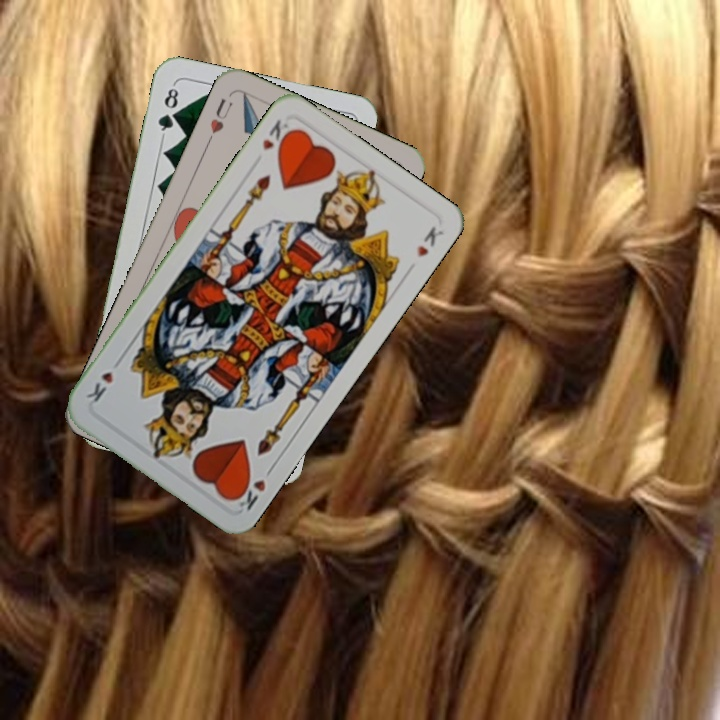G8: (153, 81, 181, 139)
HK: (229, 471, 269, 513), (258, 115, 297, 155)
HU: (203, 95, 236, 147)
